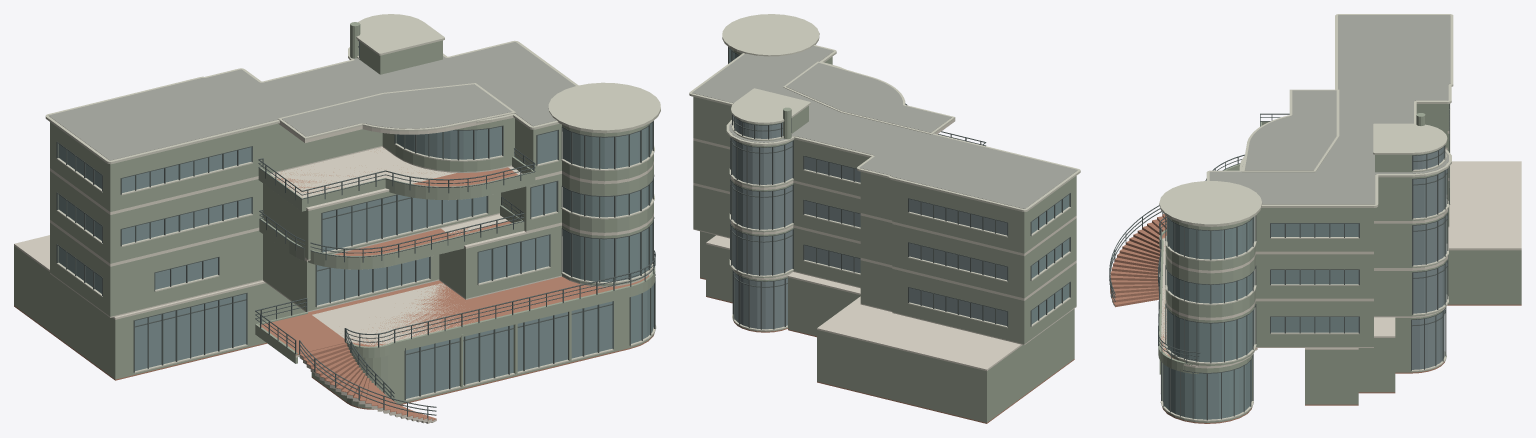
Rendered from jingan-woo-tongwen-green-house-lod.glb.
The picture shows the model from 3 angles, left to right: view 1: azimuth 30°, elevation 25°; view 2: azimuth 150°, elevation 25°; view 3: azimuth 270°, elevation 25°; orthographic projection. The views are drawn at different scales.
Visible parts, largest first — view 1: 吴同文住宅（绿房子）; view 2: 吴同文住宅（绿房子）; view 3: 吴同文住宅（绿房子）.
Boxes of the visible parts, x1,y1,x2,y2 form: 吴同文住宅（绿房子）: (14,14,660,423); 吴同文住宅（绿房子）: (689,14,1080,423); 吴同文住宅（绿房子）: (1109,14,1521,423).
Bounding box in the file's own units: 34.13 × 17.34 × 28.08.
